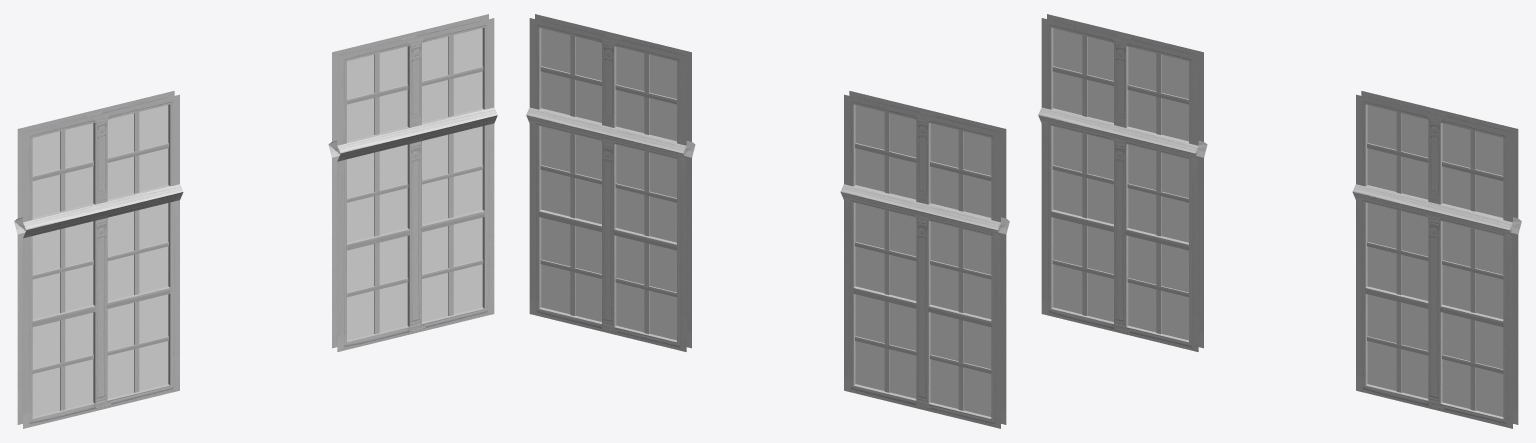
The model's file is Window2B.fbx.
3 renders of one model, left to right at view 1: azimuth 30°, elevation 25°; view 2: azimuth 150°, elevation 25°; view 3: azimuth 330°, elevation 25°, orthographic.
Visible parts, largest first — view 1: Window2B; view 2: Window2B; view 3: Window2B.
Part boxes in pixels (x1,y1,x2,y2): Window2B: [14, 14, 497, 428]; Window2B: [526, 14, 1009, 428]; Window2B: [1038, 14, 1521, 428].
Size of the model in its own units: 300 by 180 by 13.57.
